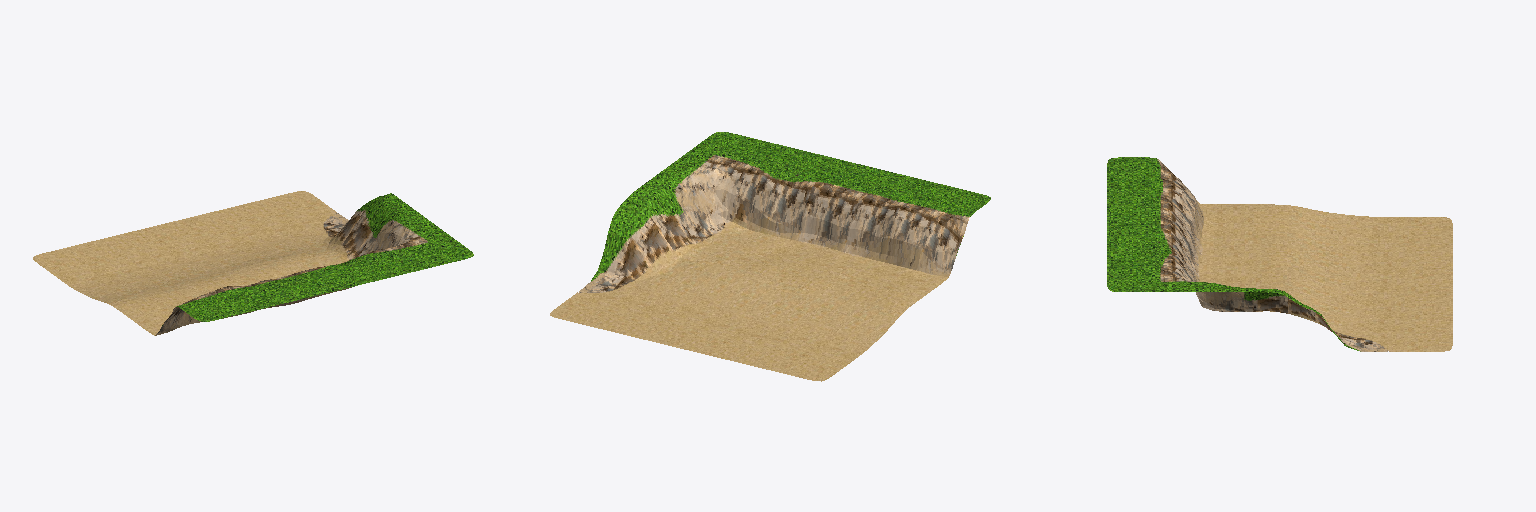
The picture shows the model from 3 angles: view 1: azimuth 30°, elevation 25°; view 2: azimuth 150°, elevation 25°; view 3: azimuth 270°, elevation 25°; orthographic projection.
Parts seen in each view (by area): view 1: cliff_Grid; view 2: cliff_Grid; view 3: cliff_Grid.
Boxes of the visible parts, box(x1,y1,x2,y2) form: cliff_Grid: box(33, 191, 473, 335); cliff_Grid: box(550, 132, 990, 381); cliff_Grid: box(1107, 157, 1452, 351).
Size of the model in its own units: 102 by 20.6 by 108.
1 materials, 1 textured.